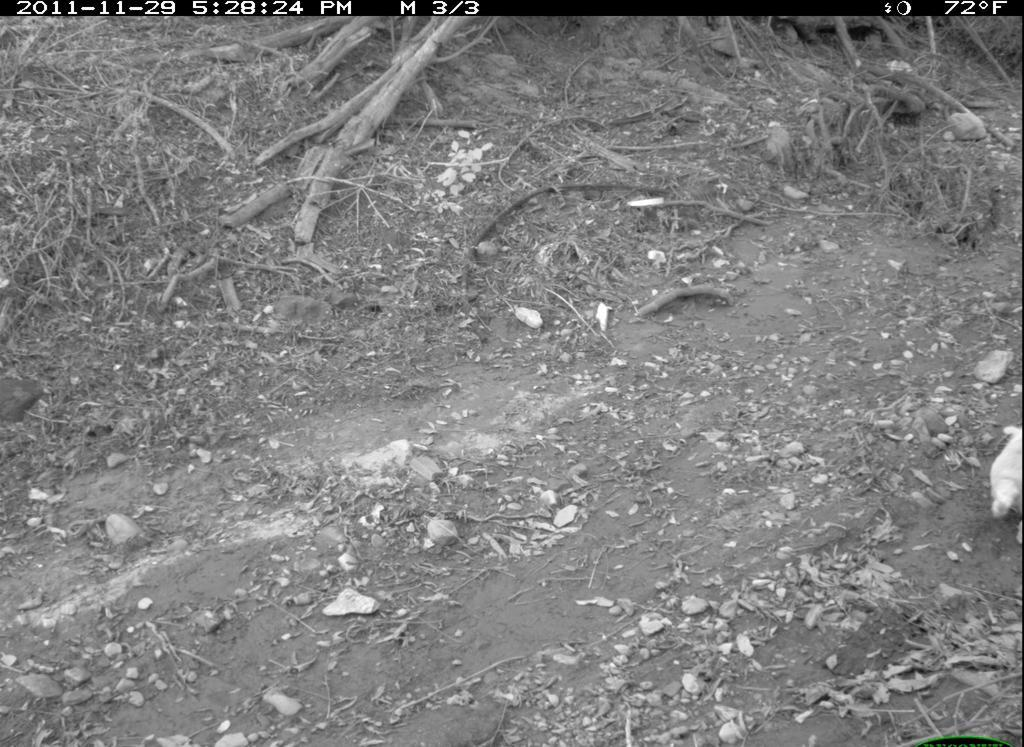dog: (975, 418, 1019, 545)
